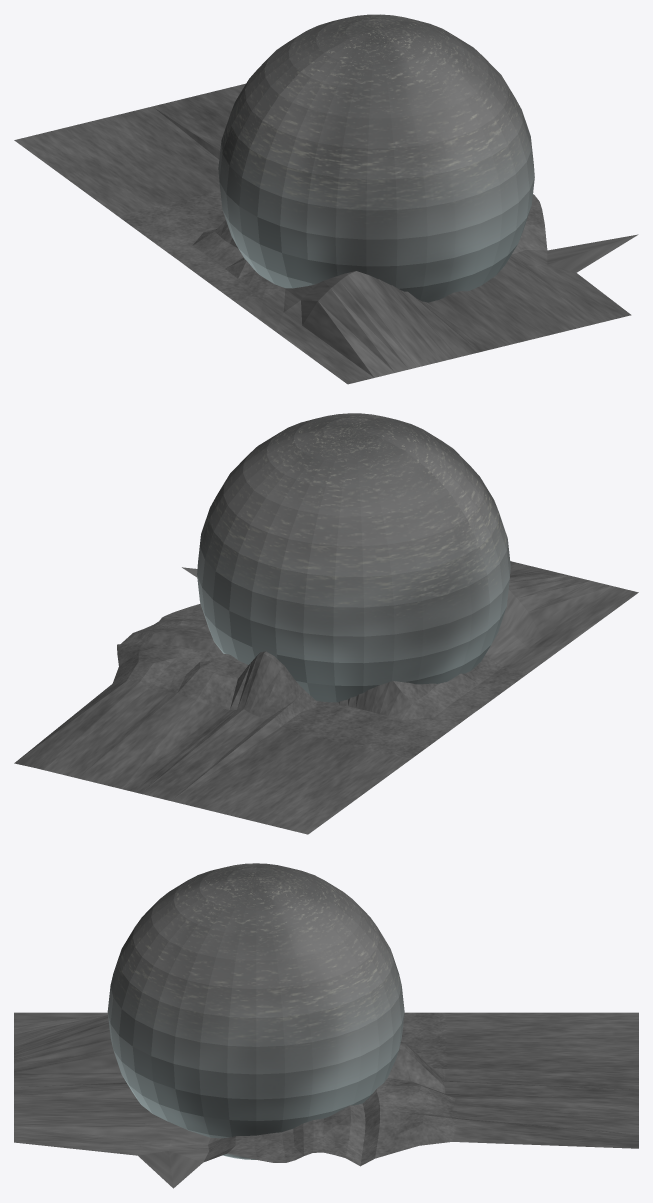
File: skydome.obj
3 views of the same model, one above another, from view 1: azimuth 30°, elevation 25°; view 2: azimuth 150°, elevation 25°; view 3: azimuth 270°, elevation 25° (orthographic). The views are drawn at different scales.
Parts seen in each view (by area): view 1: 球_球.001; view 2: 球_球.001; view 3: 球_球.001.
Boxes of the visible parts, x1,y1,x2,y2 form: 球_球.001: [14, 14, 638, 384]; 球_球.001: [14, 413, 638, 834]; 球_球.001: [14, 863, 638, 1188].
Size of the model in its own units: 2.74 by 2 by 4.21.
1 material, 1 textured.
